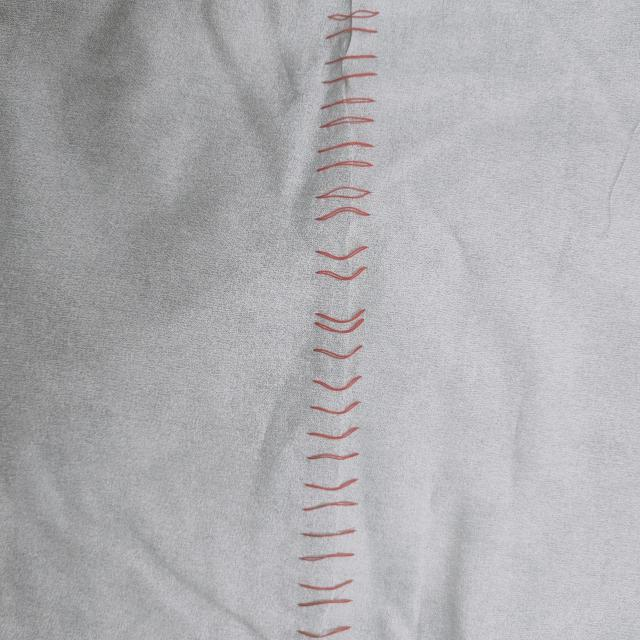gray stitch: (299, 298, 369, 636), (308, 1, 383, 284)
